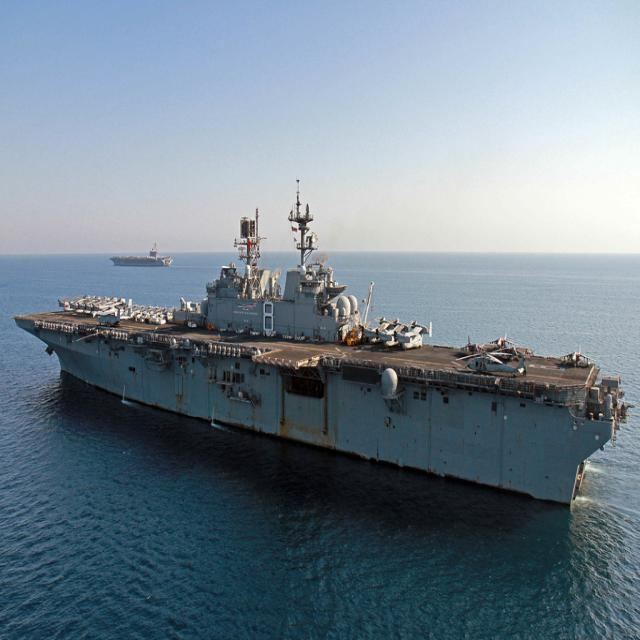Boat: (11, 176, 633, 506), (110, 244, 172, 266)
